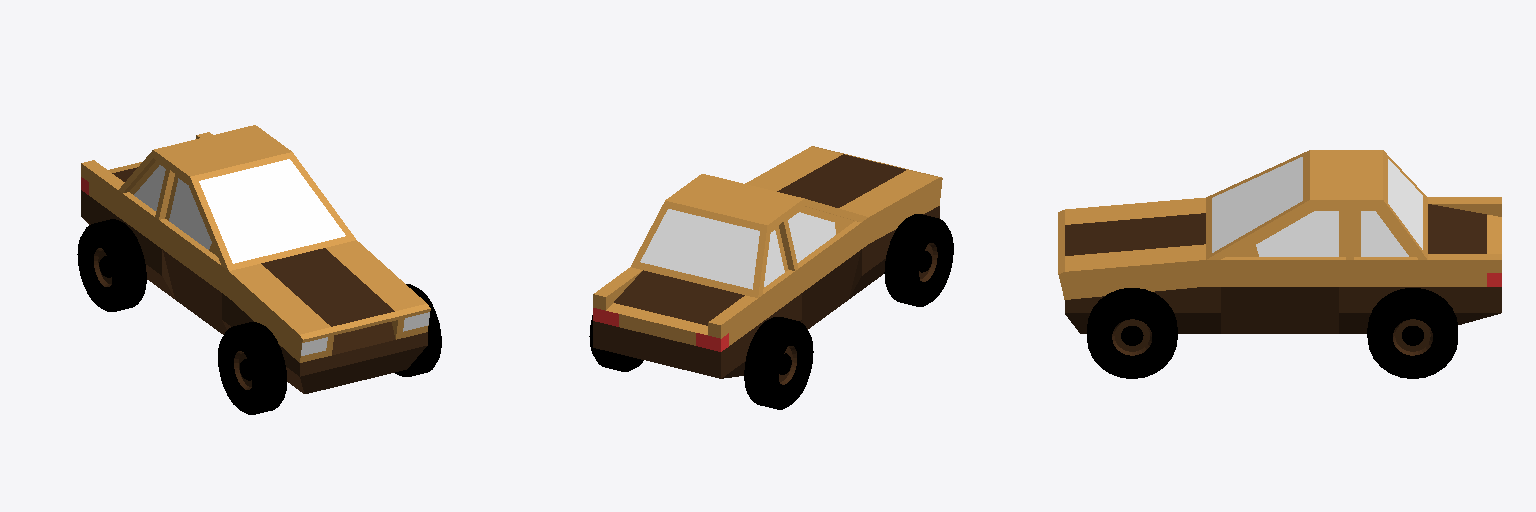
Rendered from car5.obj.
3 views of the same model, side by side, from view 1: azimuth 30°, elevation 25°; view 2: azimuth 150°, elevation 25°; view 3: azimuth 270°, elevation 25° (orthographic).
Parts seen in each view (by area): view 1: body_frontSports, body_topSports, wheel_standard, body_edge, body_backFins, body_topBackStandard; view 2: body_backFins, body_topBackStandard, wheel_standard, body_frontSports, body_topSports, body_edge; view 3: body_frontSports, body_topSports, wheel_standard, body_backFins, body_edge, body_topBackStandard.
Part boxes in pixels (x1,y1,x2,y2): body_frontSports: (229, 240, 430, 393); body_topSports: (155, 136, 355, 270); wheel_standard: (77, 219, 441, 414); body_edge: (155, 218, 229, 334); body_backFins: (81, 132, 212, 292); body_topBackStandard: (119, 125, 269, 210); body_backFins: (593, 267, 794, 378); body_topBackStandard: (631, 190, 788, 297); wheel_standard: (589, 214, 953, 409); body_frontSports: (745, 146, 942, 292); body_topSports: (680, 174, 868, 270); body_edge: (795, 218, 868, 329); body_frontSports: (1058, 198, 1205, 333); body_topSports: (1206, 150, 1353, 259); wheel_standard: (1087, 288, 1457, 378); body_backFins: (1354, 197, 1501, 333); body_edge: (1206, 257, 1353, 333); body_topBackStandard: (1354, 150, 1427, 259).
Size of the model in its own units: 1.43 by 1.21 by 3.